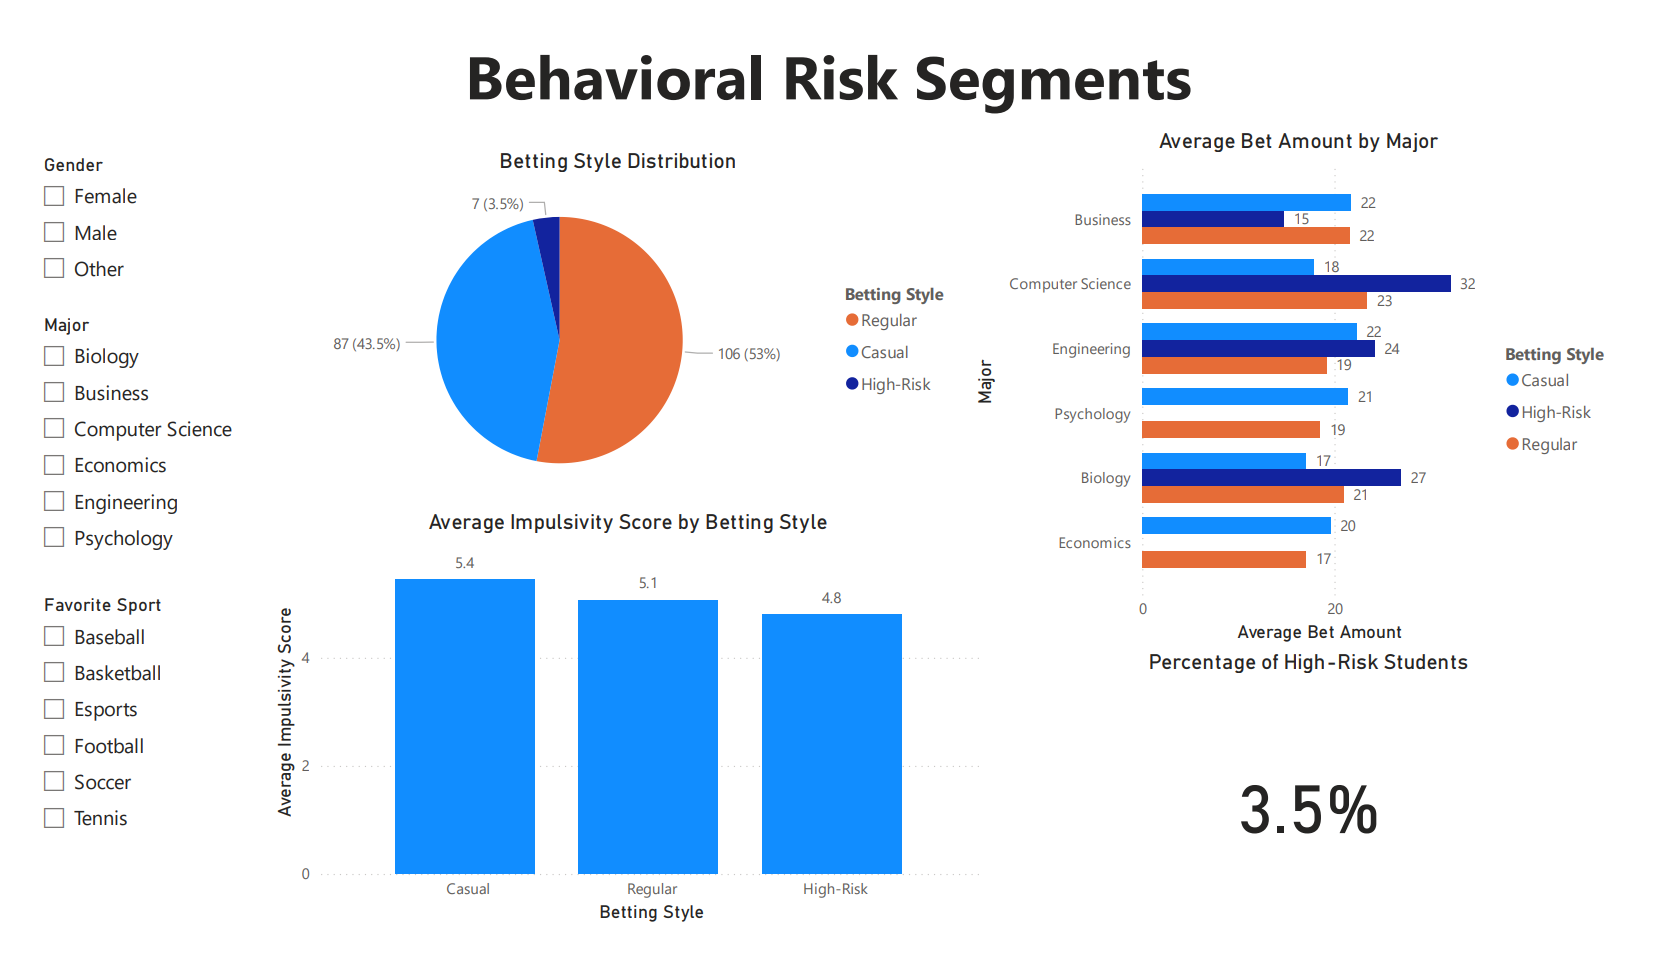

The page's visual inventory and layout, read from the dashboard file:
{"tool":"powerbi","page":{"name":"Behavioral Risk Segments","canvas":[1280,720],"ordinal":2},"visuals":[{"type":"pieChart","title":"Betting Style Distribution","fields":{"Category":["finalized_student_sports_betting_data.betting_style"],"Y":["CountNonNull(finalized_student_sports_betting_data.student_id)"]},"box":[192,96,560,288],"z":0},{"type":"clusteredColumnChart","title":"Average Impulsivity Score by Betting Style","fields":{"Category":["finalized_student_sports_betting_data.betting_style"],"Y":["Avg(finalized_student_sports_betting_data.impulsivity_score)"]},"box":[192,384,576,336],"z":1},{"type":"textbox","box":[0,0,1280,96],"z":2},{"type":"clusteredBarChart","title":"Average Bet Amount by Major","fields":{"Category":["finalized_student_sports_betting_data.major"],"Y":["Avg(finalized_student_sports_betting_data.avg_bet_amount)"],"Series":["finalized_student_sports_betting_data.betting_style"]},"box":[752,80,528,416],"z":3},{"type":"card","title":"Percentage of High-Risk Students","fields":{"Values":["finalized_student_sports_betting_data.HighRiskPct"]},"box":[768,496,512,224],"z":4},{"type":"slicer","fields":{"Values":["finalized_student_sports_betting_data.gender"]},"box":[0,96,176,128],"z":5},{"type":"slicer","fields":{"Values":["finalized_student_sports_betting_data.major"]},"box":[0,224,192,224],"z":6},{"type":"slicer","fields":{"Values":["finalized_student_sports_betting_data.favorite_sport"]},"box":[0,448,192,272],"z":7}]}

Visuals, with their boxes in screenshot pixels (x1, y1, x2, y2), scaled from the page's 1280x720 canvas onto the 1656x956 screenshot:
"Betting Style Distribution" pieChart: detection(248, 127, 973, 510)
"Average Impulsivity Score by Betting Style" clusteredColumnChart: detection(248, 510, 994, 955)
textbox: detection(0, 0, 1655, 127)
"Average Bet Amount by Major" clusteredBarChart: detection(973, 106, 1655, 659)
"Percentage of High-Risk Students" card: detection(994, 659, 1655, 955)
slicer - finalized_student_sports_betting_data.gender: detection(0, 127, 228, 297)
slicer - finalized_student_sports_betting_data.major: detection(0, 297, 248, 595)
slicer - finalized_student_sports_betting_data.favorite_sport: detection(0, 595, 248, 955)
